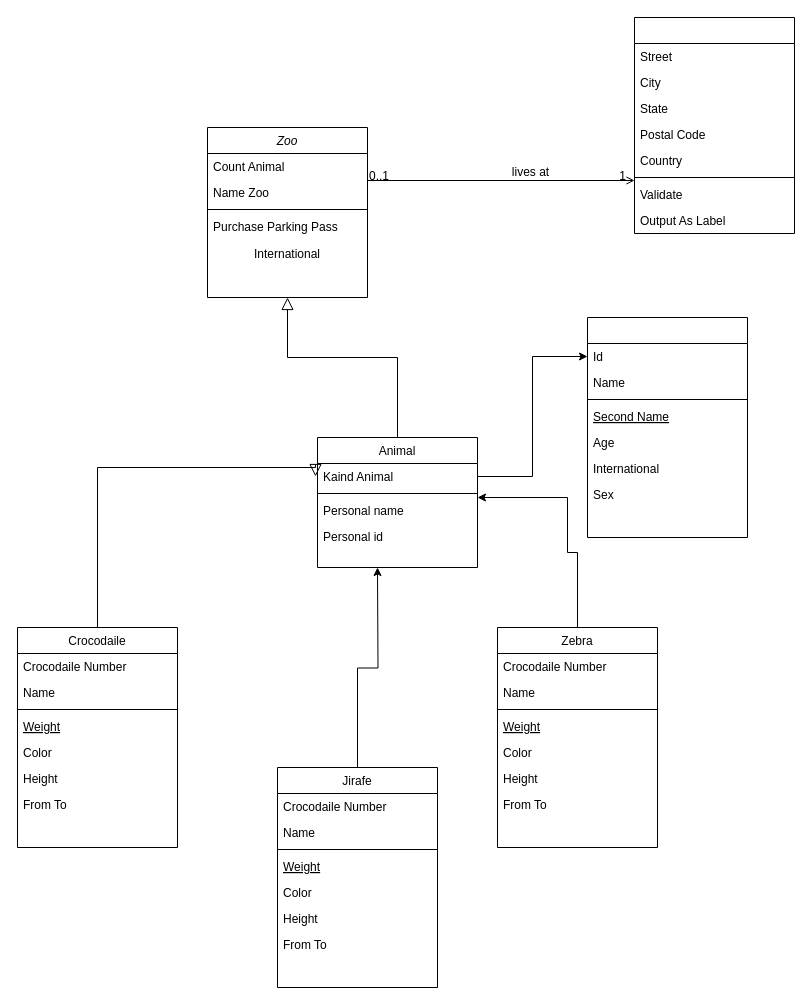
Some shapes in this 812 by 1005 pixel diagram are drawn without their labels. The shapes that lost their labels are listed below. From the top down, each one's box as (x1, y1, x2, y2) in pixels, then its label:
(634, 16, 794, 234): Address
(586, 316, 748, 538): Personal
